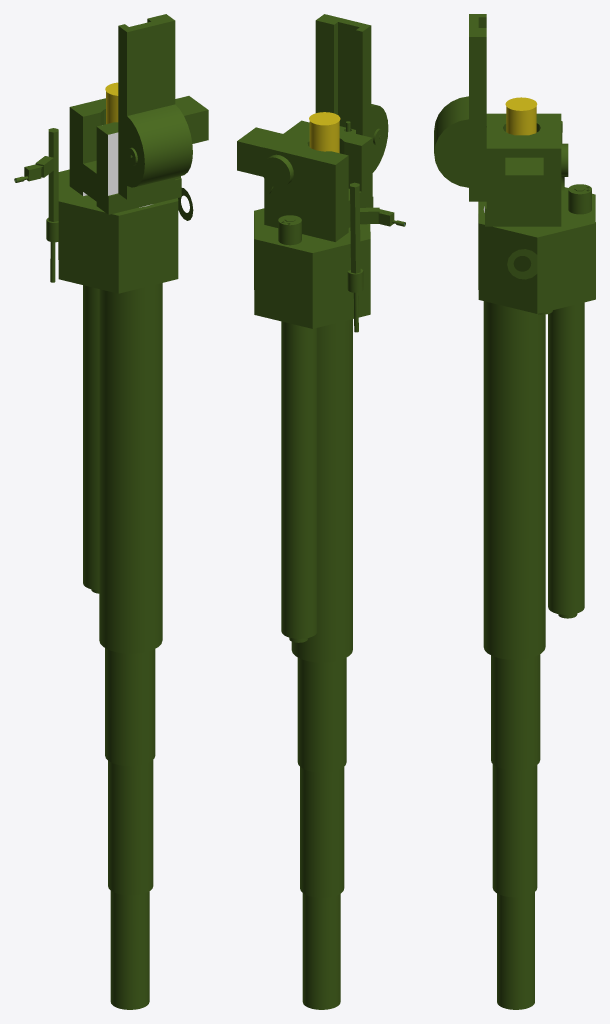
The model's file is FlakBarrel.dae.
The picture shows the model from 3 angles, left to right: view 1: azimuth 30°, elevation 25°; view 2: azimuth 150°, elevation 25°; view 3: azimuth 270°, elevation 25°; orthographic projection. The views are drawn at different scales.
Visible parts, largest first — view 1: Cannon (×11); view 2: Cannon (×12); view 3: Cannon (×10).
Boxes of the visible parts, x1,y1,x2,y2 form: Cannon (×11): [24, 14, 208, 1009]; Cannon (×12): [237, 14, 394, 1009]; Cannon (×10): [434, 14, 595, 1009].
Bounding box in the file's own units: 12.31 × 10.15 × 67.55.
